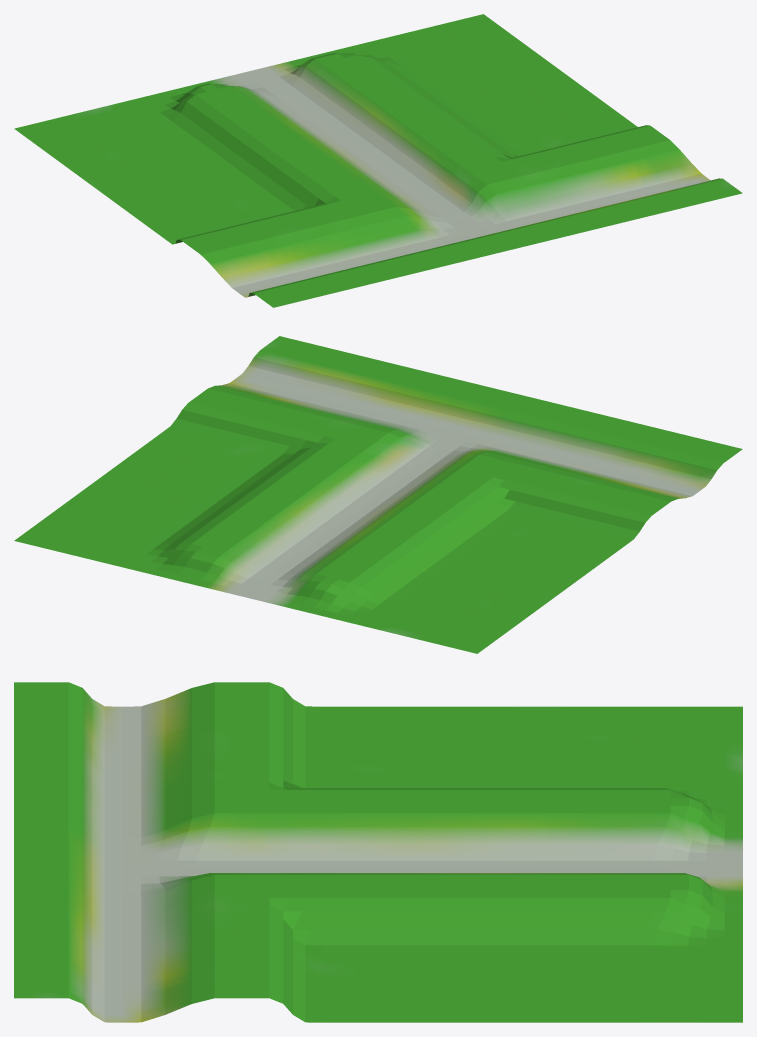
Rendered from landscape.fbx.
3 views of the same model, one above another, from view 1: azimuth 30°, elevation 25°; view 2: azimuth 150°, elevation 25°; view 3: azimuth 270°, elevation 25° (orthographic). The views are drawn at different scales.
Visible parts, largest first — view 1: Plane; view 2: Plane; view 3: Plane.
Boxes of the visible parts, left/top/right/bottom form: Plane: left=14, top=14, right=742, bottom=307; Plane: left=14, top=336, right=742, bottom=653; Plane: left=14, top=682, right=742, bottom=1022.
Size of the model in its own units: 2764 by 85.53 by 2667.
